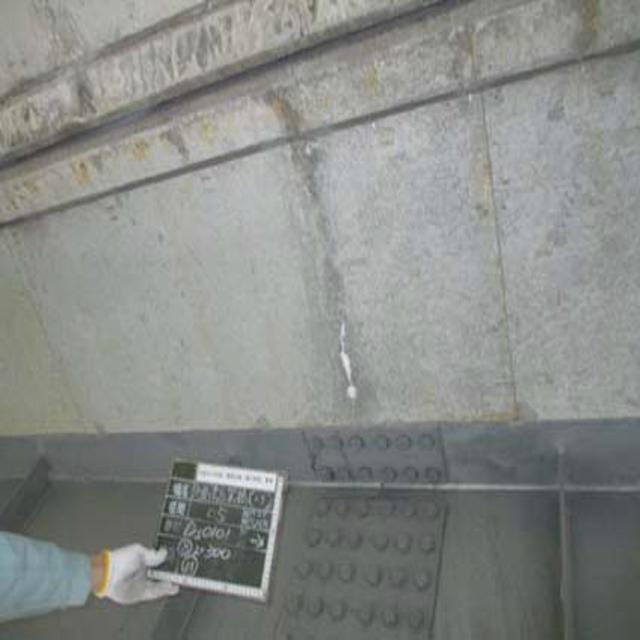freelime: (326, 313, 364, 410)
